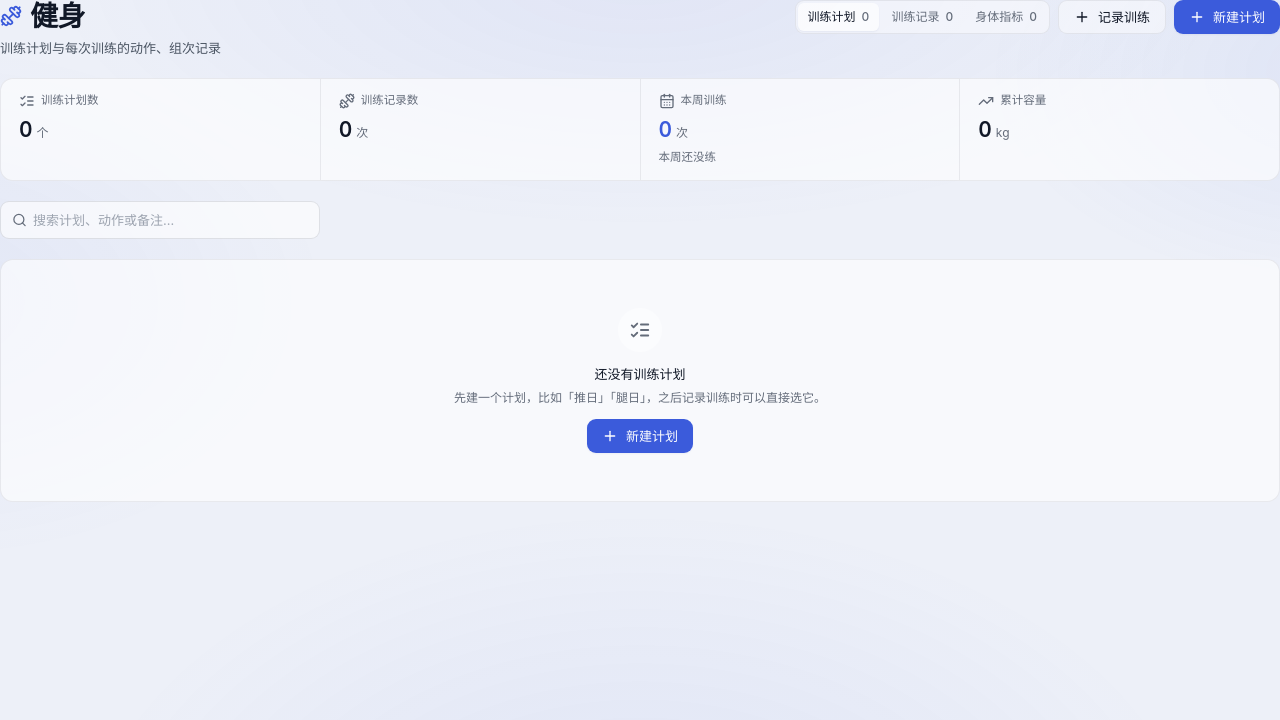
FitnessPage › 没有填动作名时不能保存
The width and height of the screenshot is (1280, 720).
Click the button "记录训练". click: coordinates (1112, 17)
box: [1058,0,1166,34]
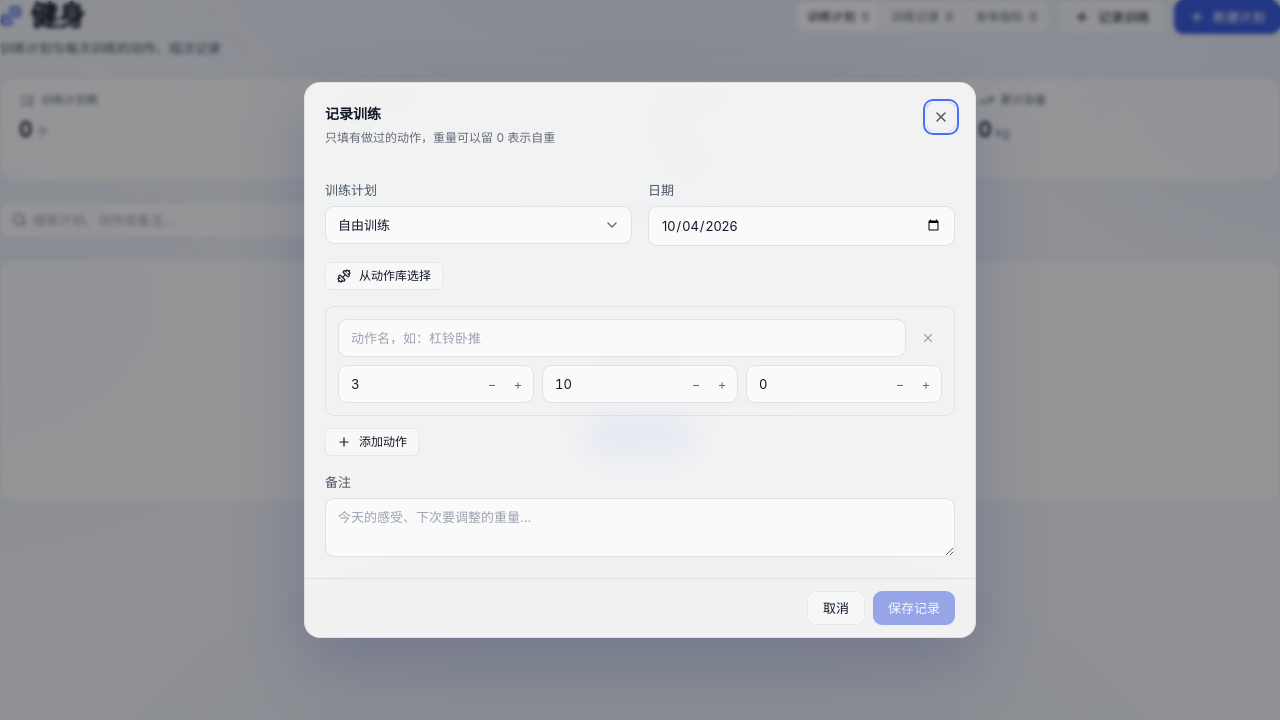
Check: the button "保存记录" is disabled, box [873,591,955,625]
Type "深蹲" into the field named "第 1 个动作名称". click: coordinates (622, 338)
box: [338,319,906,357]
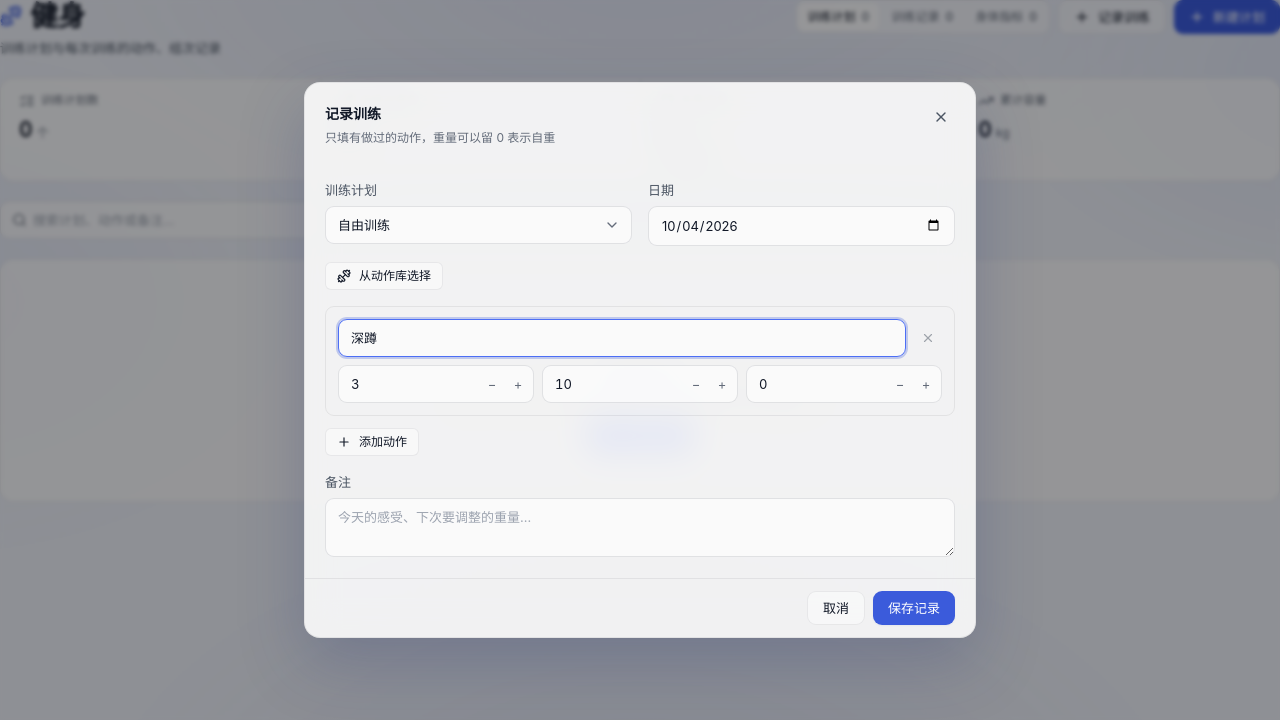
Check: the button "保存记录" is enabled, box [873,591,955,625]
